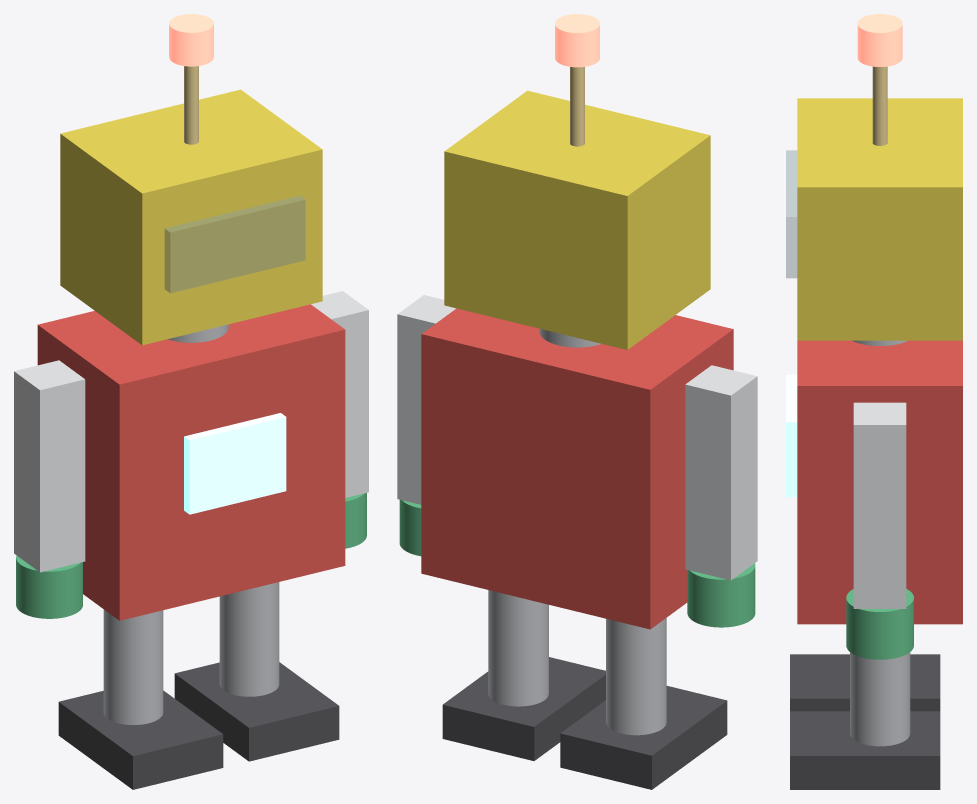
File: robot.glb
3 views of the same model, side by side, from view 1: azimuth 30°, elevation 25°; view 2: azimuth 150°, elevation 25°; view 3: azimuth 270°, elevation 25° (orthographic).
Parts seen in each view (by area): view 1: Torso, Head, Left arm, Left foot, Right foot, Visor, Chest light, Left leg, Right leg, Right arm, Left hand, Antenna light (+2 smaller); view 2: Torso, Head, Left arm, Left foot, Right foot, Left leg, Right leg, Right arm, Left hand, Antenna light, Antenna, Right hand; view 3: Head, Torso, Right arm, Right foot, Right leg, Left foot, Right hand, Antenna light, Visor, Chest light, Antenna.
Part boxes in pixels (bbox=[...]): Torso: bbox=[37, 304, 345, 620]; Head: bbox=[60, 89, 322, 345]; Left arm: bbox=[14, 360, 85, 572]; Left foot: bbox=[58, 690, 223, 789]; Right foot: bbox=[174, 662, 339, 761]; Visor: bbox=[164, 195, 305, 293]; Chest light: bbox=[184, 413, 286, 514]; Left leg: bbox=[103, 609, 163, 724]; Right leg: bbox=[219, 582, 279, 696]; Right arm: bbox=[311, 291, 368, 497]; Left hand: bbox=[16, 555, 82, 618]; Antenna light: bbox=[169, 14, 213, 66]; Torso: bbox=[421, 308, 733, 629]; Head: bbox=[444, 90, 710, 349]; Left arm: bbox=[685, 365, 757, 580]; Left foot: bbox=[560, 686, 727, 789]; Right foot: bbox=[442, 657, 605, 760]; Left leg: bbox=[606, 618, 666, 735]; Right leg: bbox=[488, 590, 548, 706]; Right arm: bbox=[397, 295, 455, 504]; Left hand: bbox=[687, 563, 755, 627]; Antenna light: bbox=[555, 14, 599, 67]; Antenna: bbox=[570, 67, 584, 146]; Right hand: bbox=[399, 500, 421, 556]; Head: bbox=[797, 98, 962, 340]; Torso: bbox=[797, 340, 962, 624]; Right arm: bbox=[853, 402, 906, 608]; Right foot: bbox=[790, 711, 940, 789]; Right leg: bbox=[850, 652, 910, 746]; Left foot: bbox=[790, 654, 940, 711]; Right hand: bbox=[846, 589, 913, 659]; Antenna light: bbox=[857, 14, 902, 66]; Visor: bbox=[786, 150, 797, 278]; Chest light: bbox=[786, 374, 797, 497]; Antenna: bbox=[872, 66, 887, 145].
Bounding box in the file's own units: 106 × 210 × 47.
